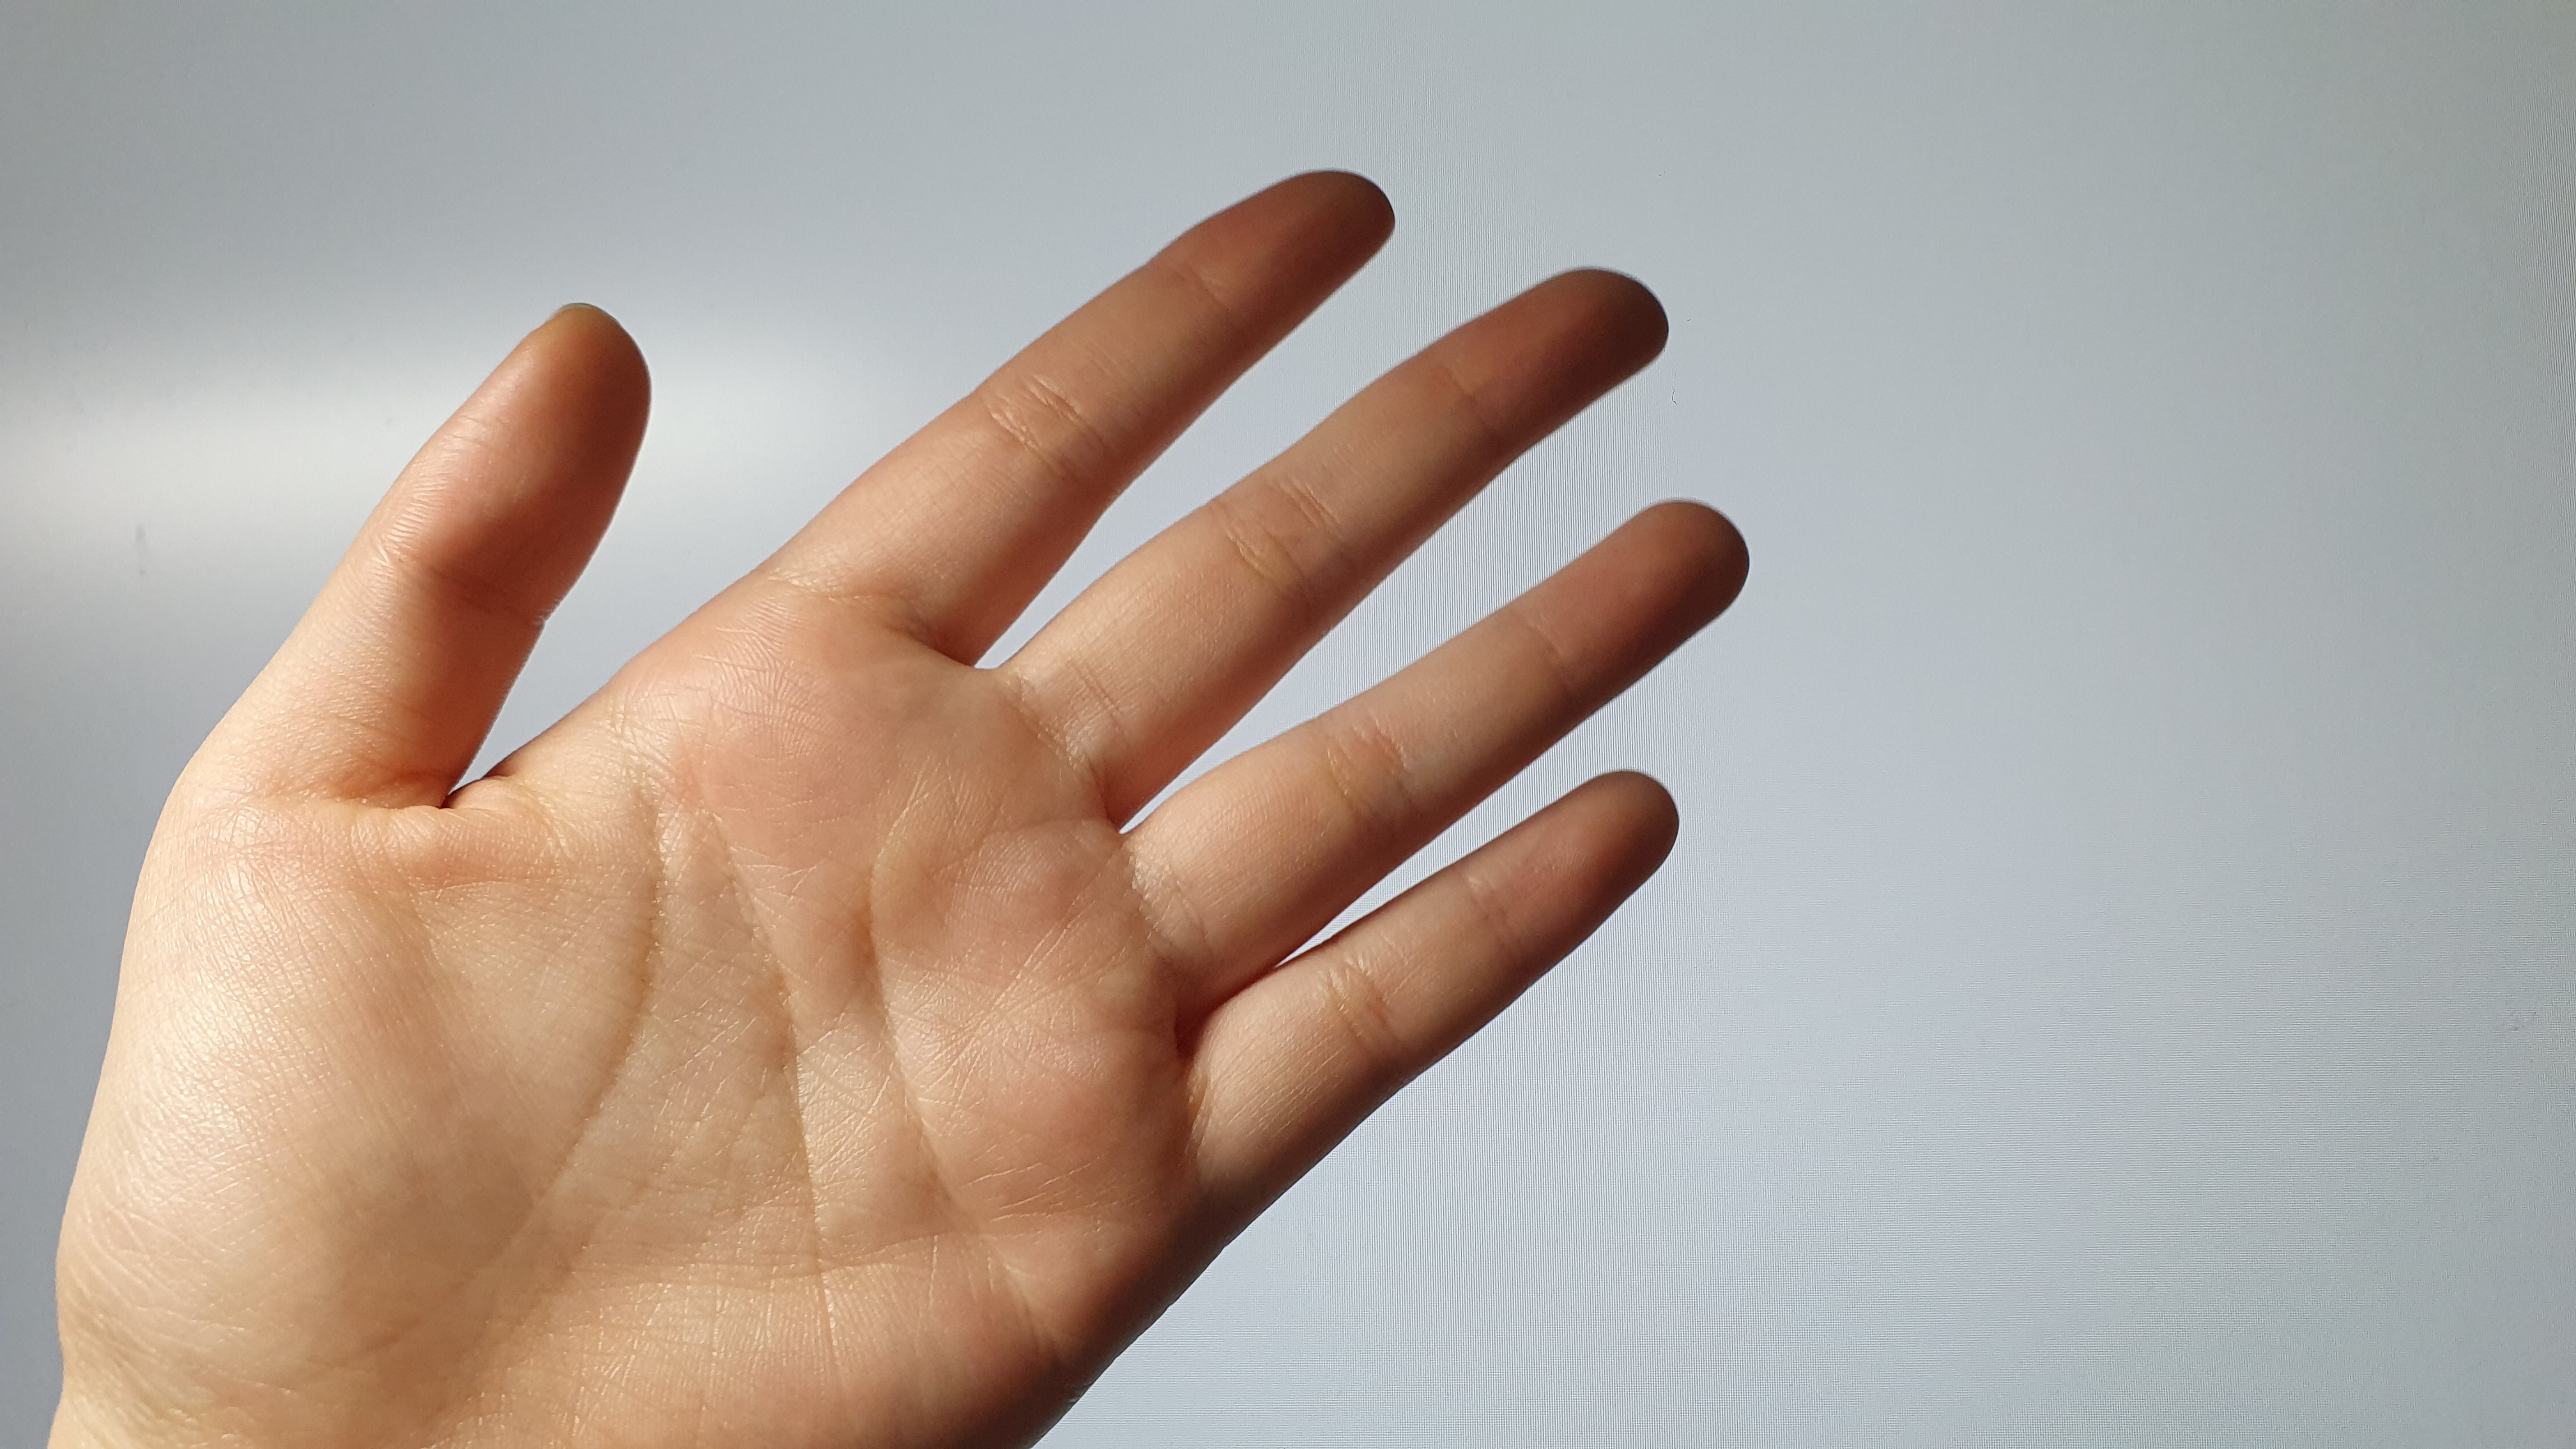hand: (57, 175, 1760, 1449)
index finger: (800, 180, 1401, 646)
middle finger: (1016, 257, 1683, 784)
palm: (124, 628, 1196, 1449)
pinky: (1164, 759, 1704, 1182)
ring finger: (1113, 494, 1760, 957)
thumb: (198, 287, 665, 817)
